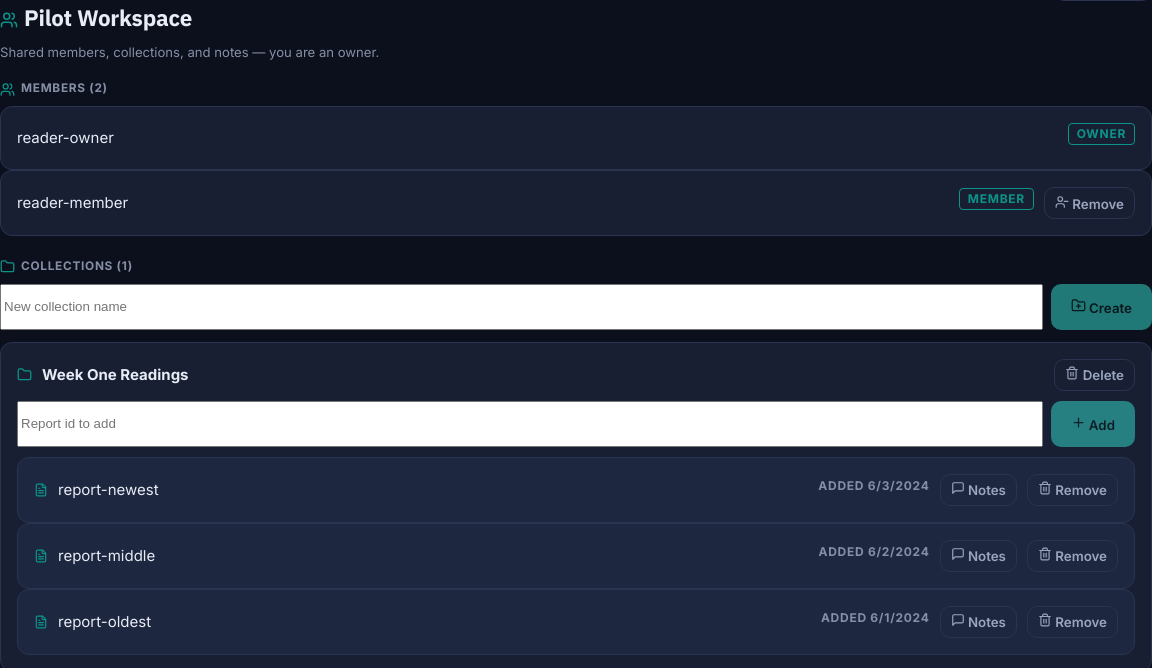
Test case: WorkspaceDetailView › prepends a created annotation to the notes list
The width and height of the screenshot is (1152, 668).
Step 1. Click the button with aria-label "show notes for report report-newest" → coordinates (978, 490), box [940,474,1017,506]
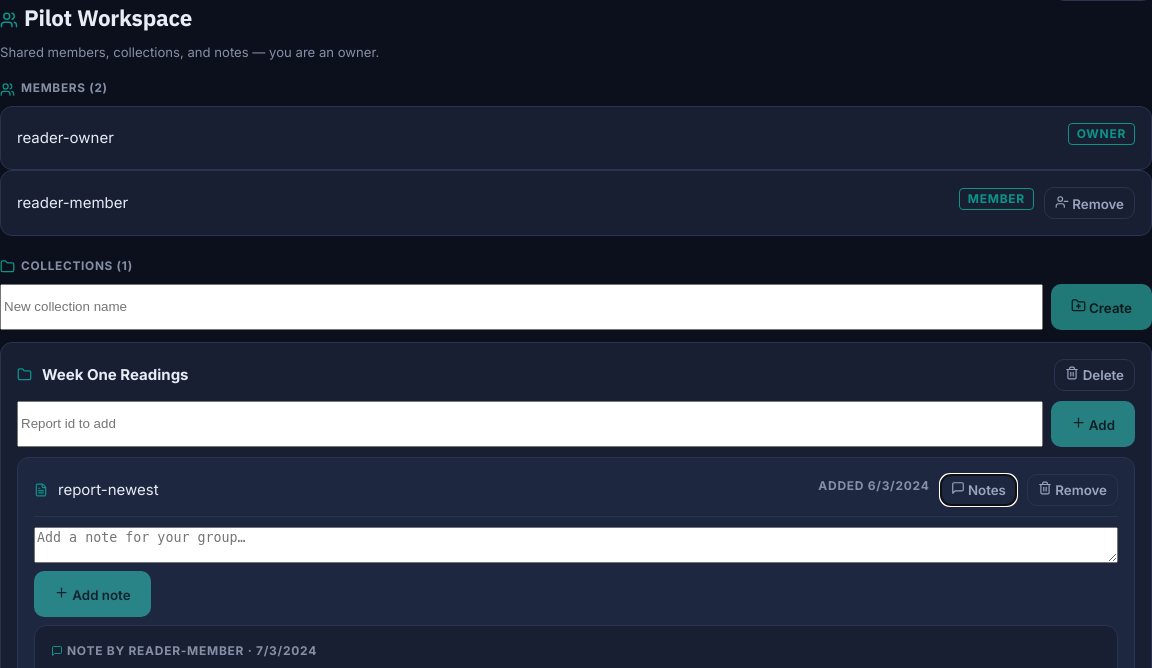
Step 2. Type "note-brand-new" into the text box named "add a note to report report-newest" → coordinates (576, 545), box [34,527,1118,563]
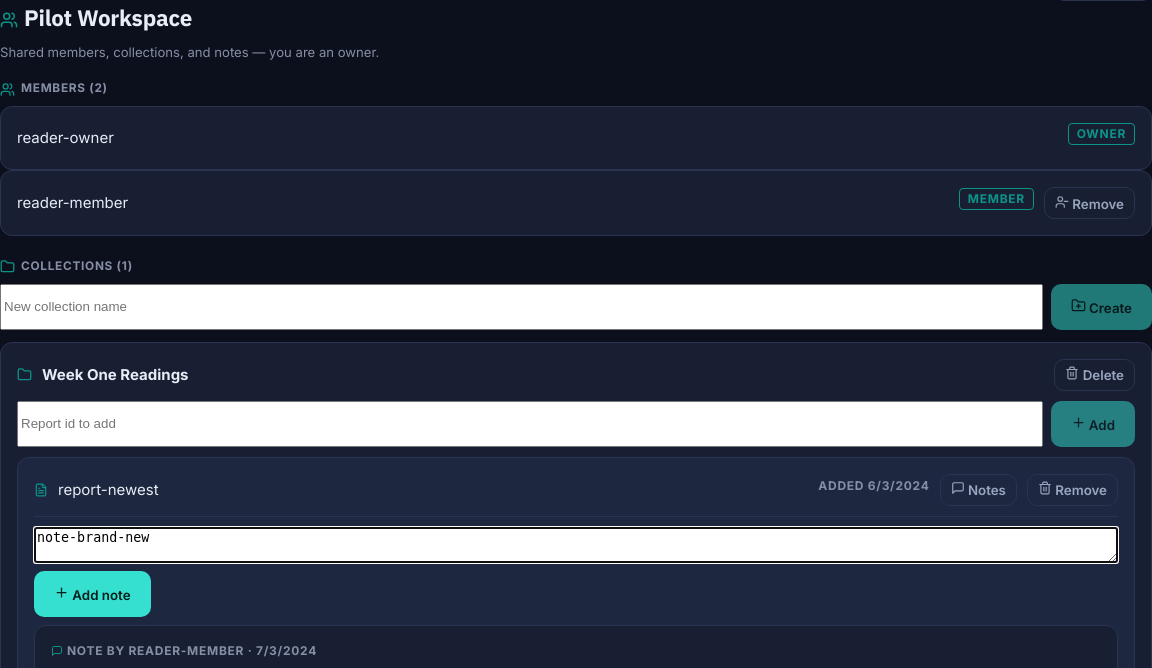
Step 3. Click the button "Add note" → coordinates (92, 594), box [34,571,151,617]
(page scrolled)
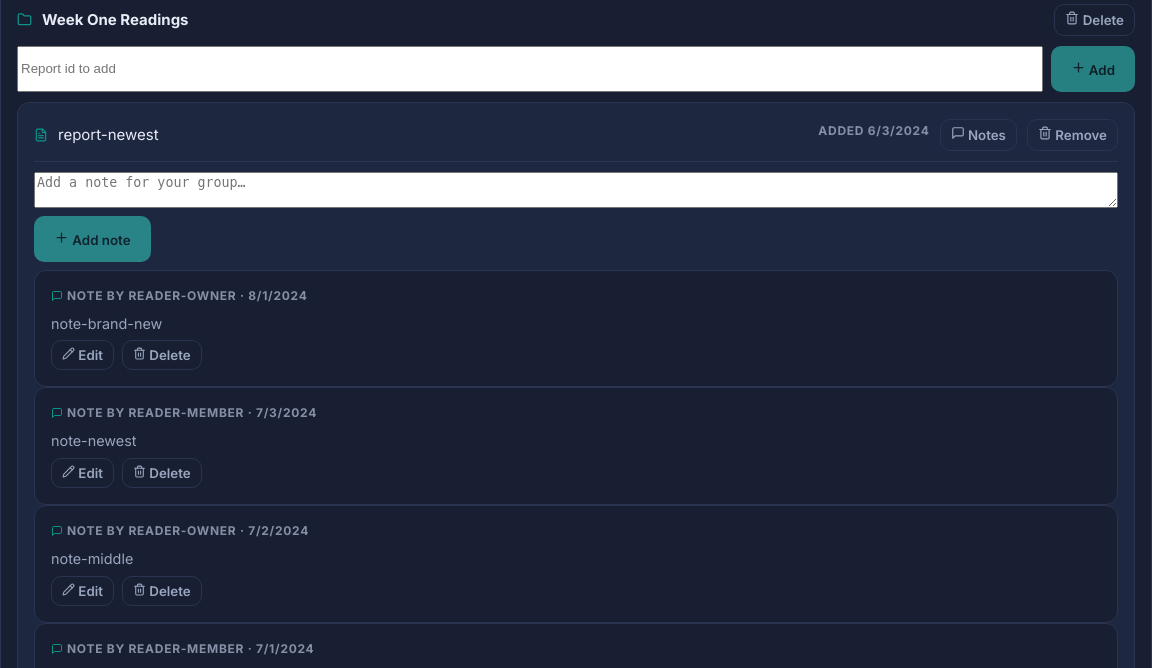
Expected: the text "note-brand-new" is shown, [51,315,162,332]
